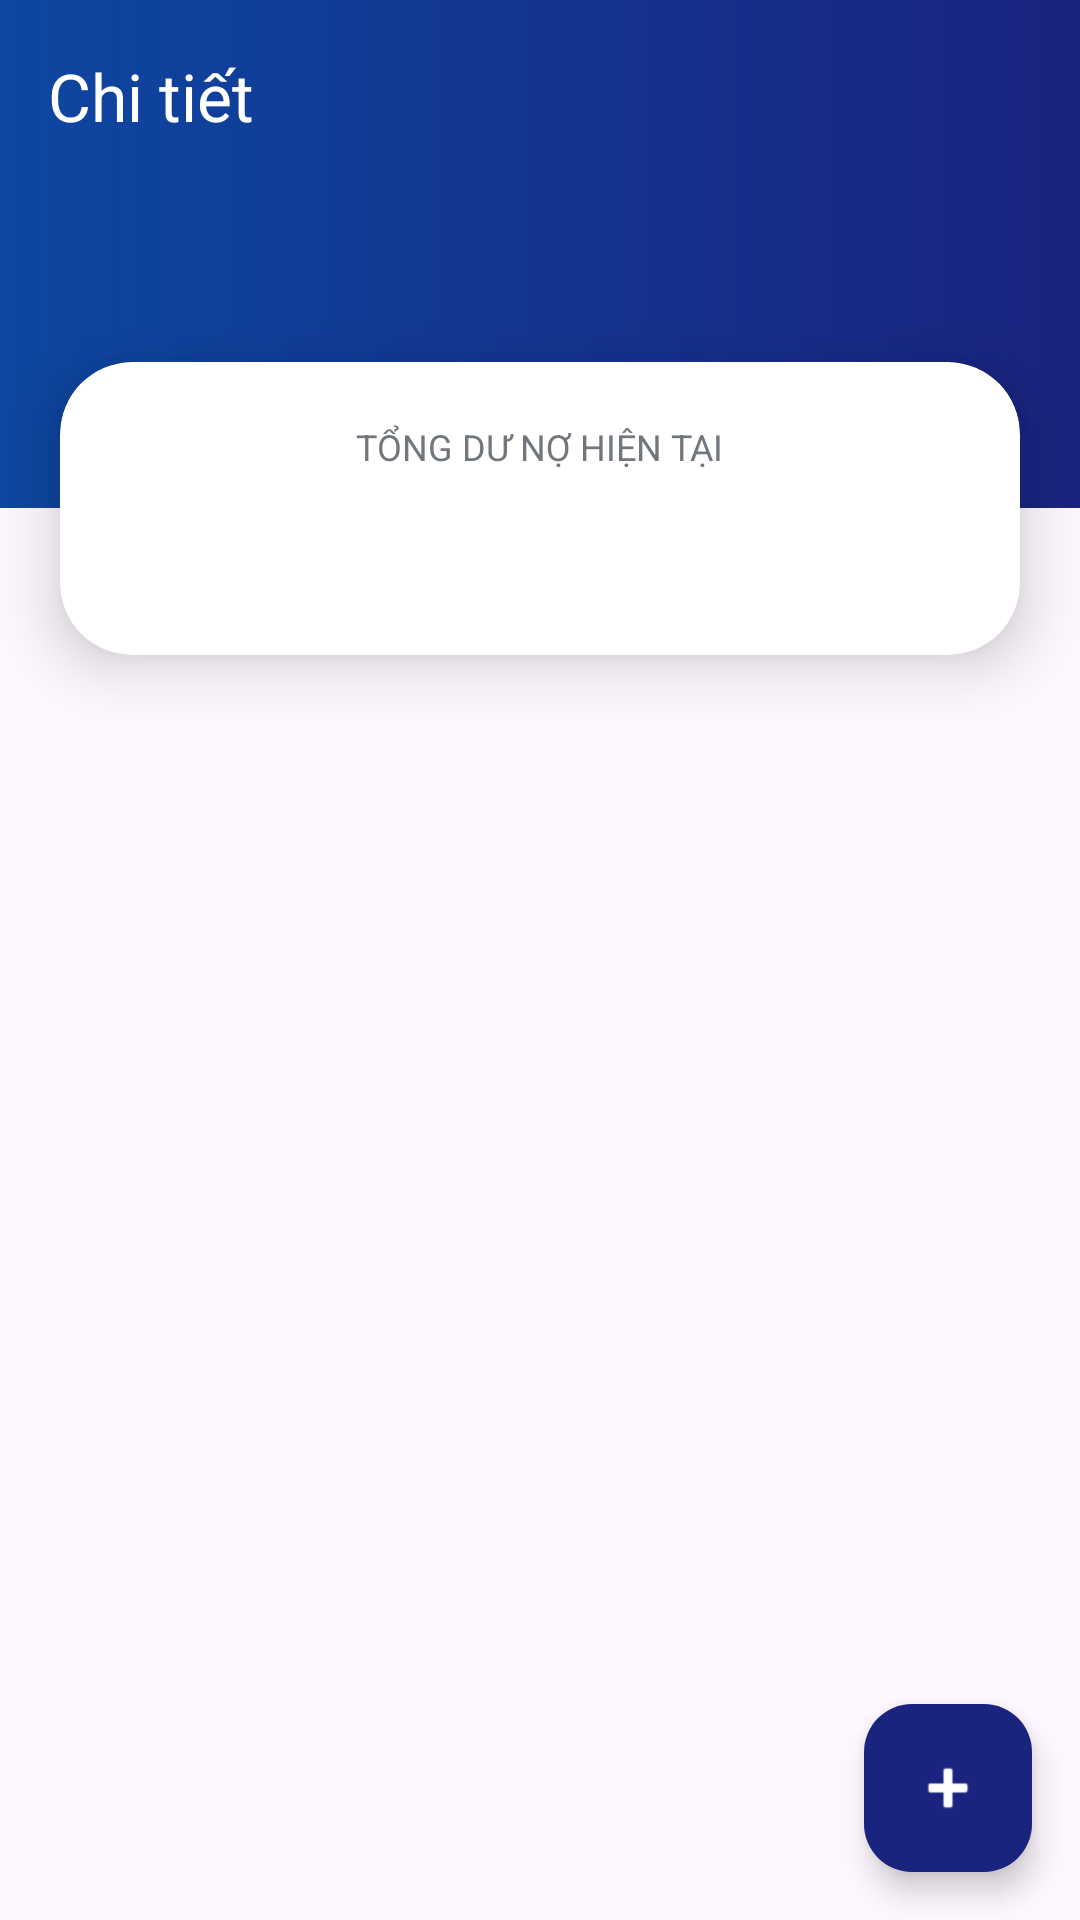

Named icons in this screenshot (1080px x 1920px) and their bounding boxes, (x1, y1, x2, y2):
Thêm khoản nợ mới: (864, 1704, 1032, 1872)
